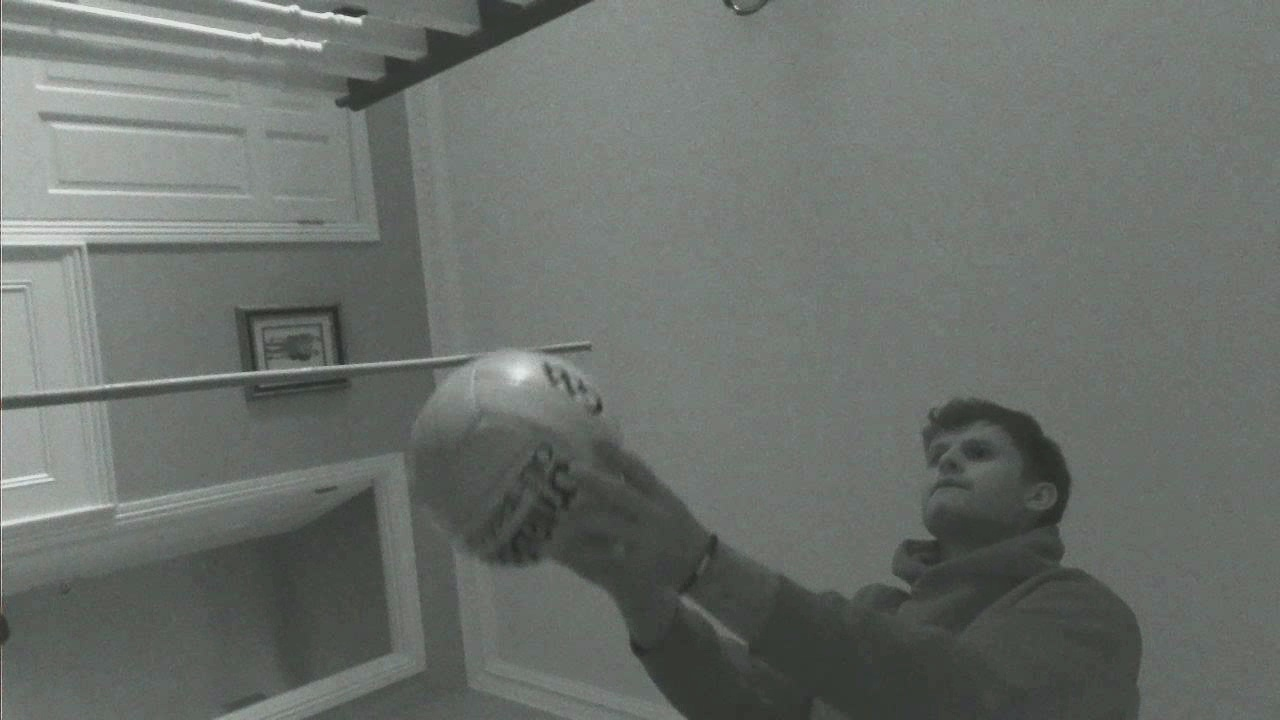Football-Spotter: (412, 350, 620, 564)
